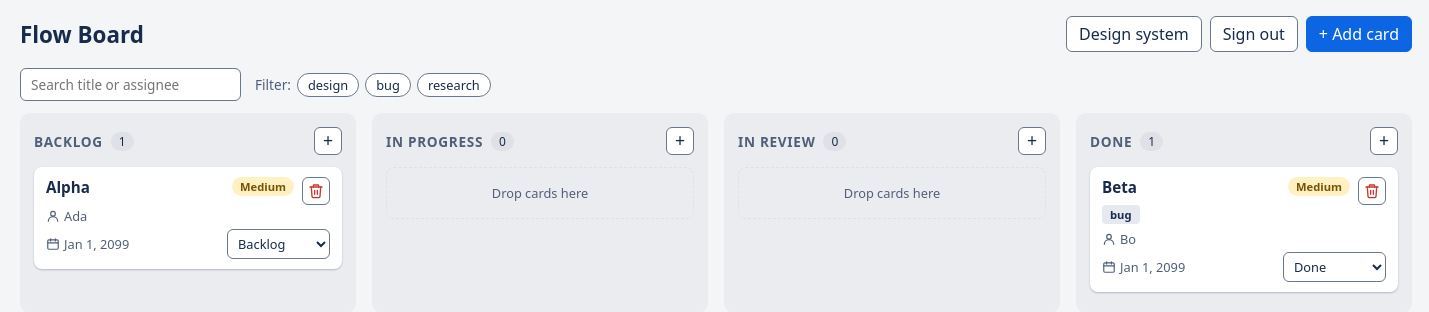
it: search and filter › filters by title or assignee and announces the result count
Expected: the button "Alpha" is shown, [46,177,90,197]
In the search field: (130, 84) [20,68,241,101], type "bo"
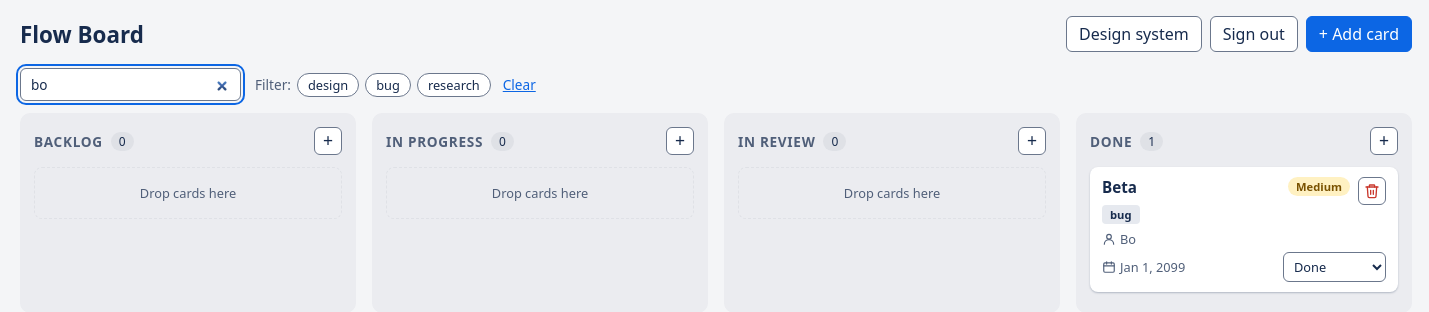
Expected: the button "Beta" is shown, [1102,177,1137,197]
Expected: the button "Alpha" is gone
Click the button "Clear": (519, 84) [497,72,542,96]
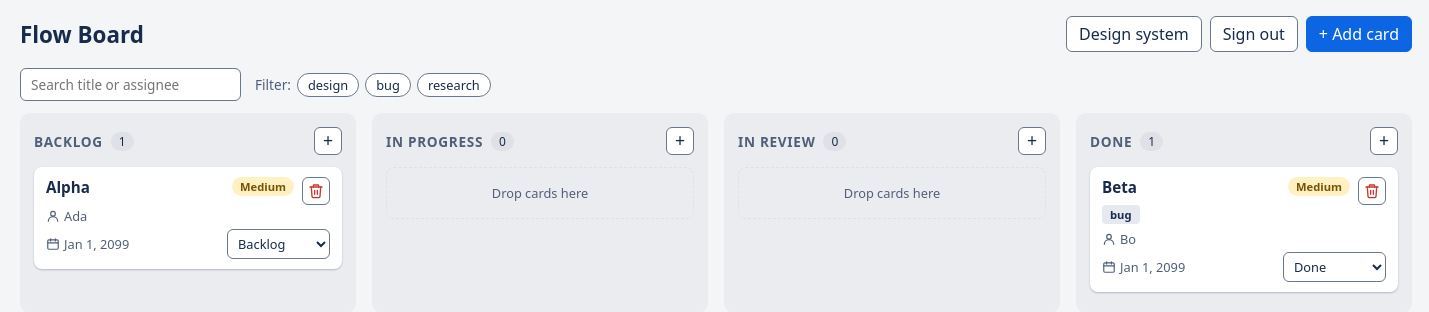
Expected: the button "Alpha" is shown, [46,177,90,197]
